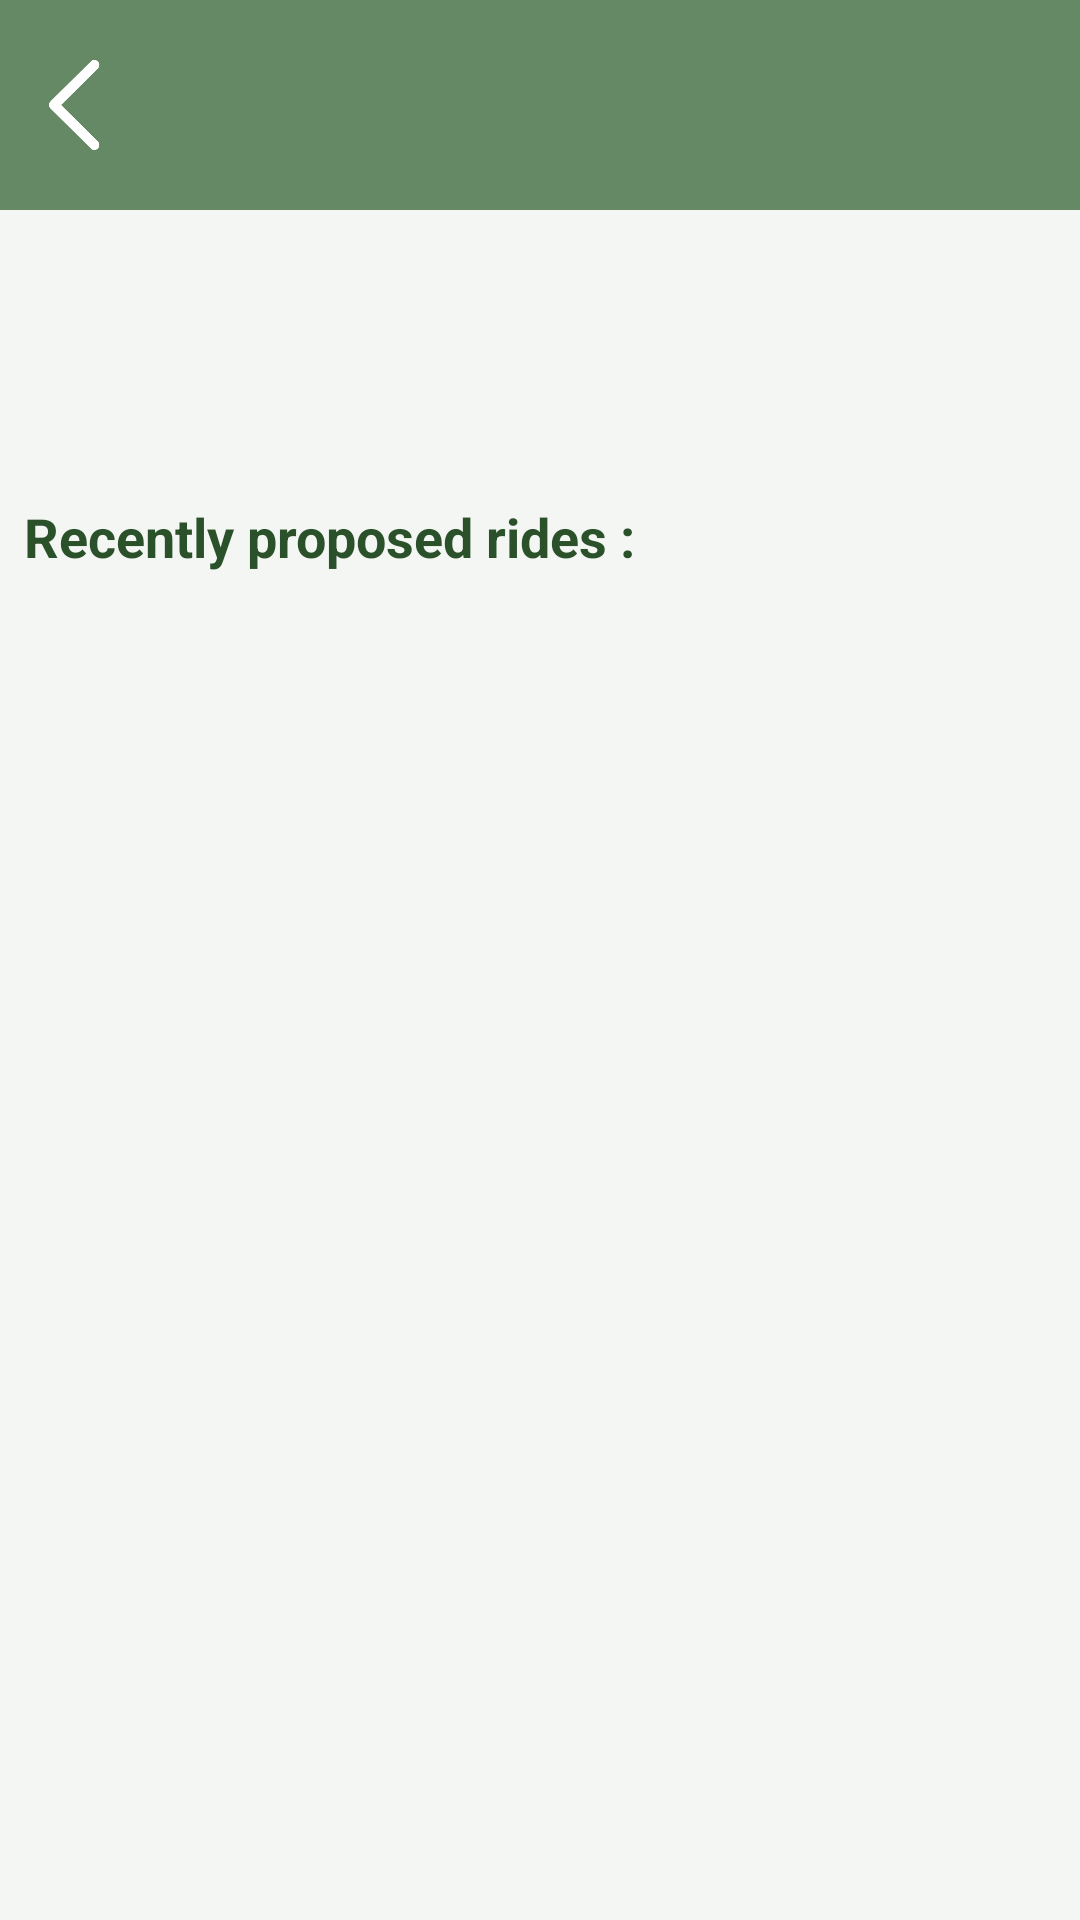

Icon bounding boxes for this 1080 × 1920 phone screenshot, format [x1, y1, x2, y2]:
retourblanc: [49, 60, 99, 150]
